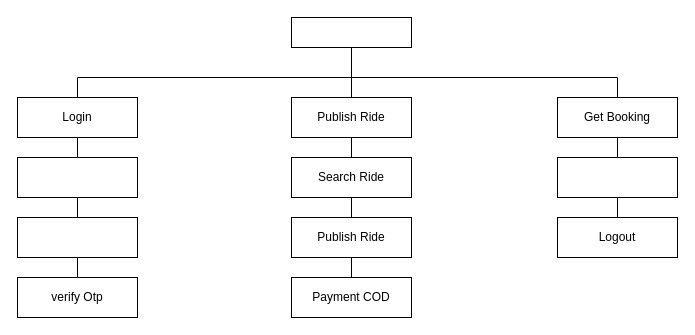
This 695x335 diagram has some shape labels left out. Here are the shapes that lost their labels. From the top down, the centre of each, then its label:
the point at 351,32: App
the point at 77,177: Register
the point at 617,177: Cancle Ride
the point at 77,237: forget Password
